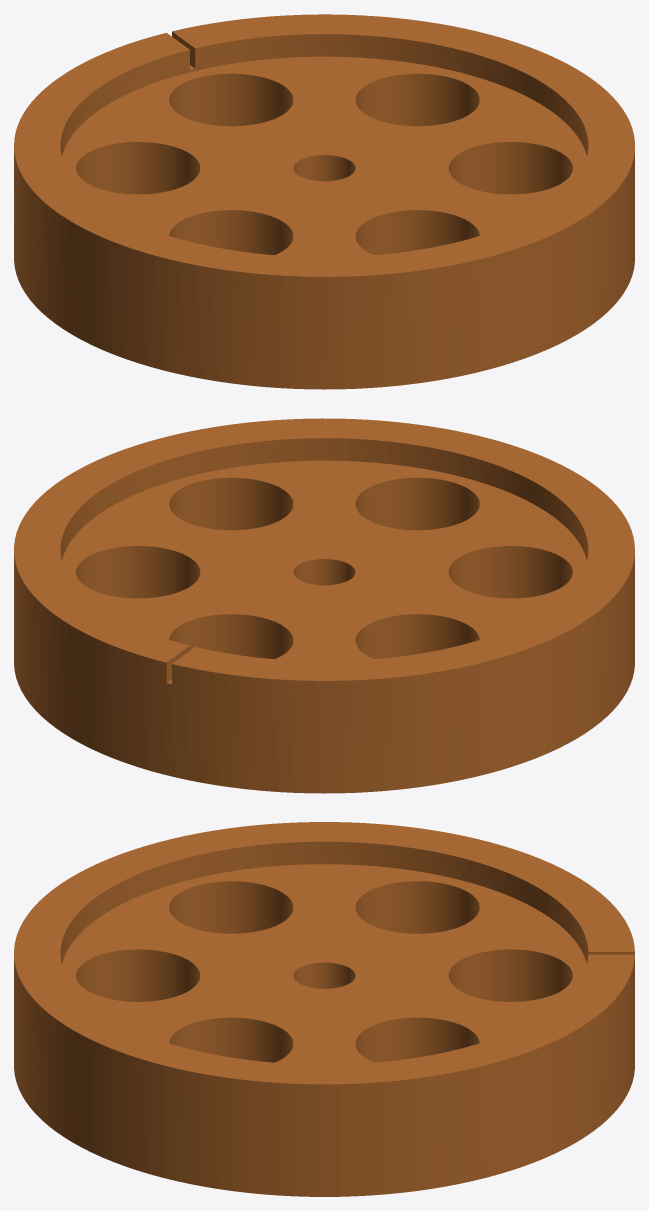
The model's file is wheel.dae.
The picture shows the model from 3 angles, top to bottom: view 1: azimuth 30°, elevation 25°; view 2: azimuth 150°, elevation 25°; view 3: azimuth 270°, elevation 25°; orthographic projection.
Visible parts, largest first — view 1: node0; view 2: node0; view 3: node0.
Part boxes in pixels (box(x1,y1,x2,y2)): node0: box(14, 14, 634, 389); node0: box(14, 418, 634, 793); node0: box(14, 822, 634, 1196).
Bounding box in the file's own units: 0.5 × 0.5 × 0.1.
